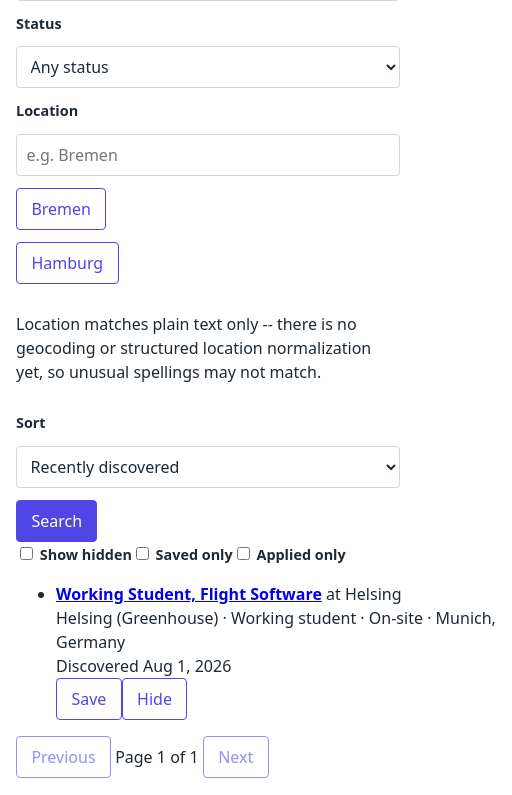
Test: OpportunityListPage › toggles save on and reloads with the saved badge shown
(page scrolled)
Check: the text "Working Student, Flight Software" is shown, box [56,583,322,605]
Click the button "Save": (89, 699) [56,678,122,720]
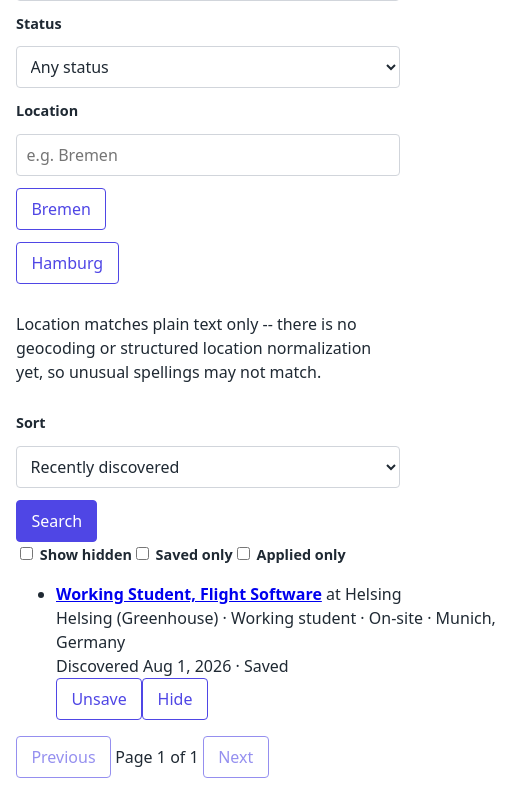
Check: the button "Unsave" is shown, box [56,678,142,720]
